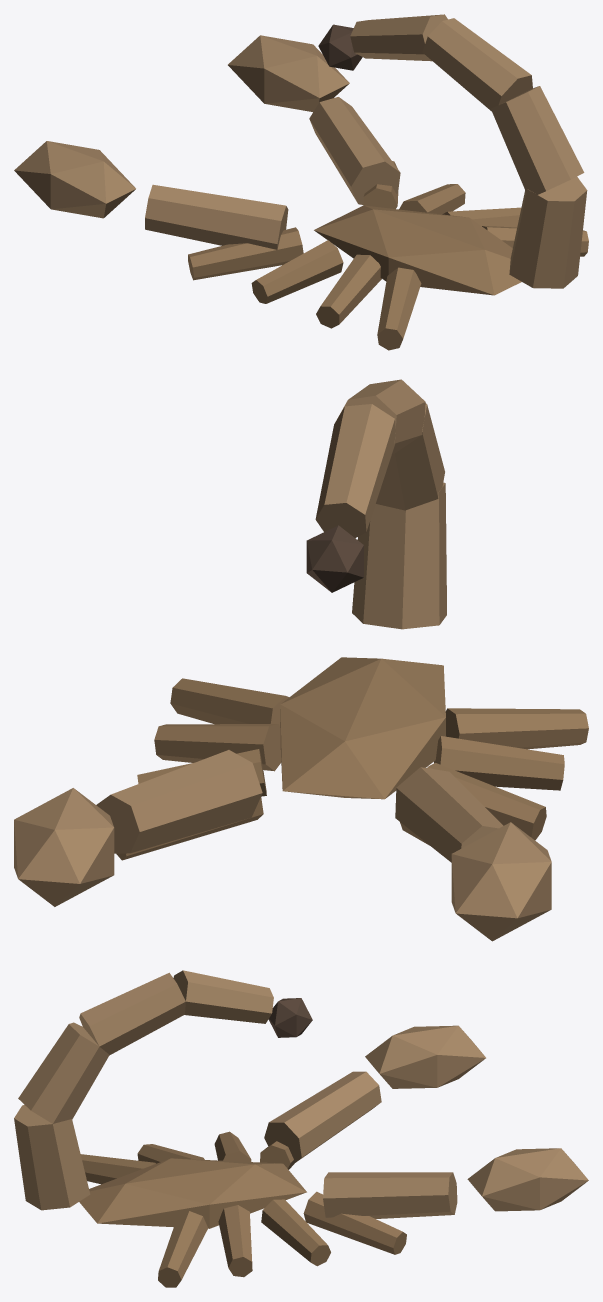
3 views of the same model, one above another, from view 1: azimuth 30°, elevation 25°; view 2: azimuth 150°, elevation 25°; view 3: azimuth 270°, elevation 25° (orthographic). The views are drawn at different scales.
Parts seen in each view (by area): view 1: part0, part13, part2, part4, part3, part14, part15, part1, part16, part6, part8, part10 (+6 smaller); view 2: part0, part13, part1, part3, part4, part16, part2, part12, part10, part9, part11, part14 (+5 smaller); view 3: part0, part1, part13, part4, part3, part2, part14, part15, part16, part5, part7, part11 (+6 smaller).
Part boxes in pixels (x1=…): part0: x1=314, y1=205, x2=521, y2=295; part13: x1=509, y1=177, x2=587, y2=288; part2: x1=145, y1=184, x2=288, y2=249; part4: x1=14, y1=141, x2=135, y2=218; part3: x1=228, y1=35, x2=349, y2=111; part14: x1=491, y1=86, x2=584, y2=194; part15: x1=422, y1=18, x2=532, y2=111; part1: x1=309, y1=97, x2=400, y2=204; part16: x1=350, y1=14, x2=447, y2=61; part6: x1=188, y1=227, x2=303, y2=280; part8: x1=251, y1=240, x2=343, y2=303; part10: x1=316, y1=254, x2=381, y2=328; part0: x1=280, y1=657, x2=445, y2=799; part13: x1=352, y1=482, x2=446, y2=629; part1: x1=96, y1=750, x2=262, y2=853; part3: x1=14, y1=788, x2=114, y2=906; part4: x1=451, y1=822, x2=551, y2=941; part16: x1=315, y1=404, x2=395, y2=538; part2: x1=395, y1=767, x2=503, y2=862; part12: x1=445, y1=708, x2=588, y2=749; part10: x1=434, y1=736, x2=564, y2=790; part9: x1=154, y1=724, x2=281, y2=771; part11: x1=170, y1=678, x2=289, y2=726; part14: x1=376, y1=403, x2=444, y2=510; part0: x1=79, y1=1158, x2=306, y2=1228; part1: x1=323, y1=1172, x2=457, y2=1218; part13: x1=14, y1=1105, x2=90, y2=1210; part4: x1=365, y1=1025, x2=485, y2=1088; part3: x1=467, y1=1148, x2=588, y2=1211; part2: x1=264, y1=1071, x2=381, y2=1165; part14: x1=18, y1=1022, x2=109, y2=1123; part15: x1=79, y1=972, x2=185, y2=1055; part16: x1=173, y1=970, x2=273, y2=1023; part5: x1=303, y1=1191, x2=406, y2=1254; part7: x1=261, y1=1199, x2=330, y2=1266; part11: x1=158, y1=1211, x2=208, y2=1287.
Size of the model in its own units: 13.7 by 8.55 by 17.7.
